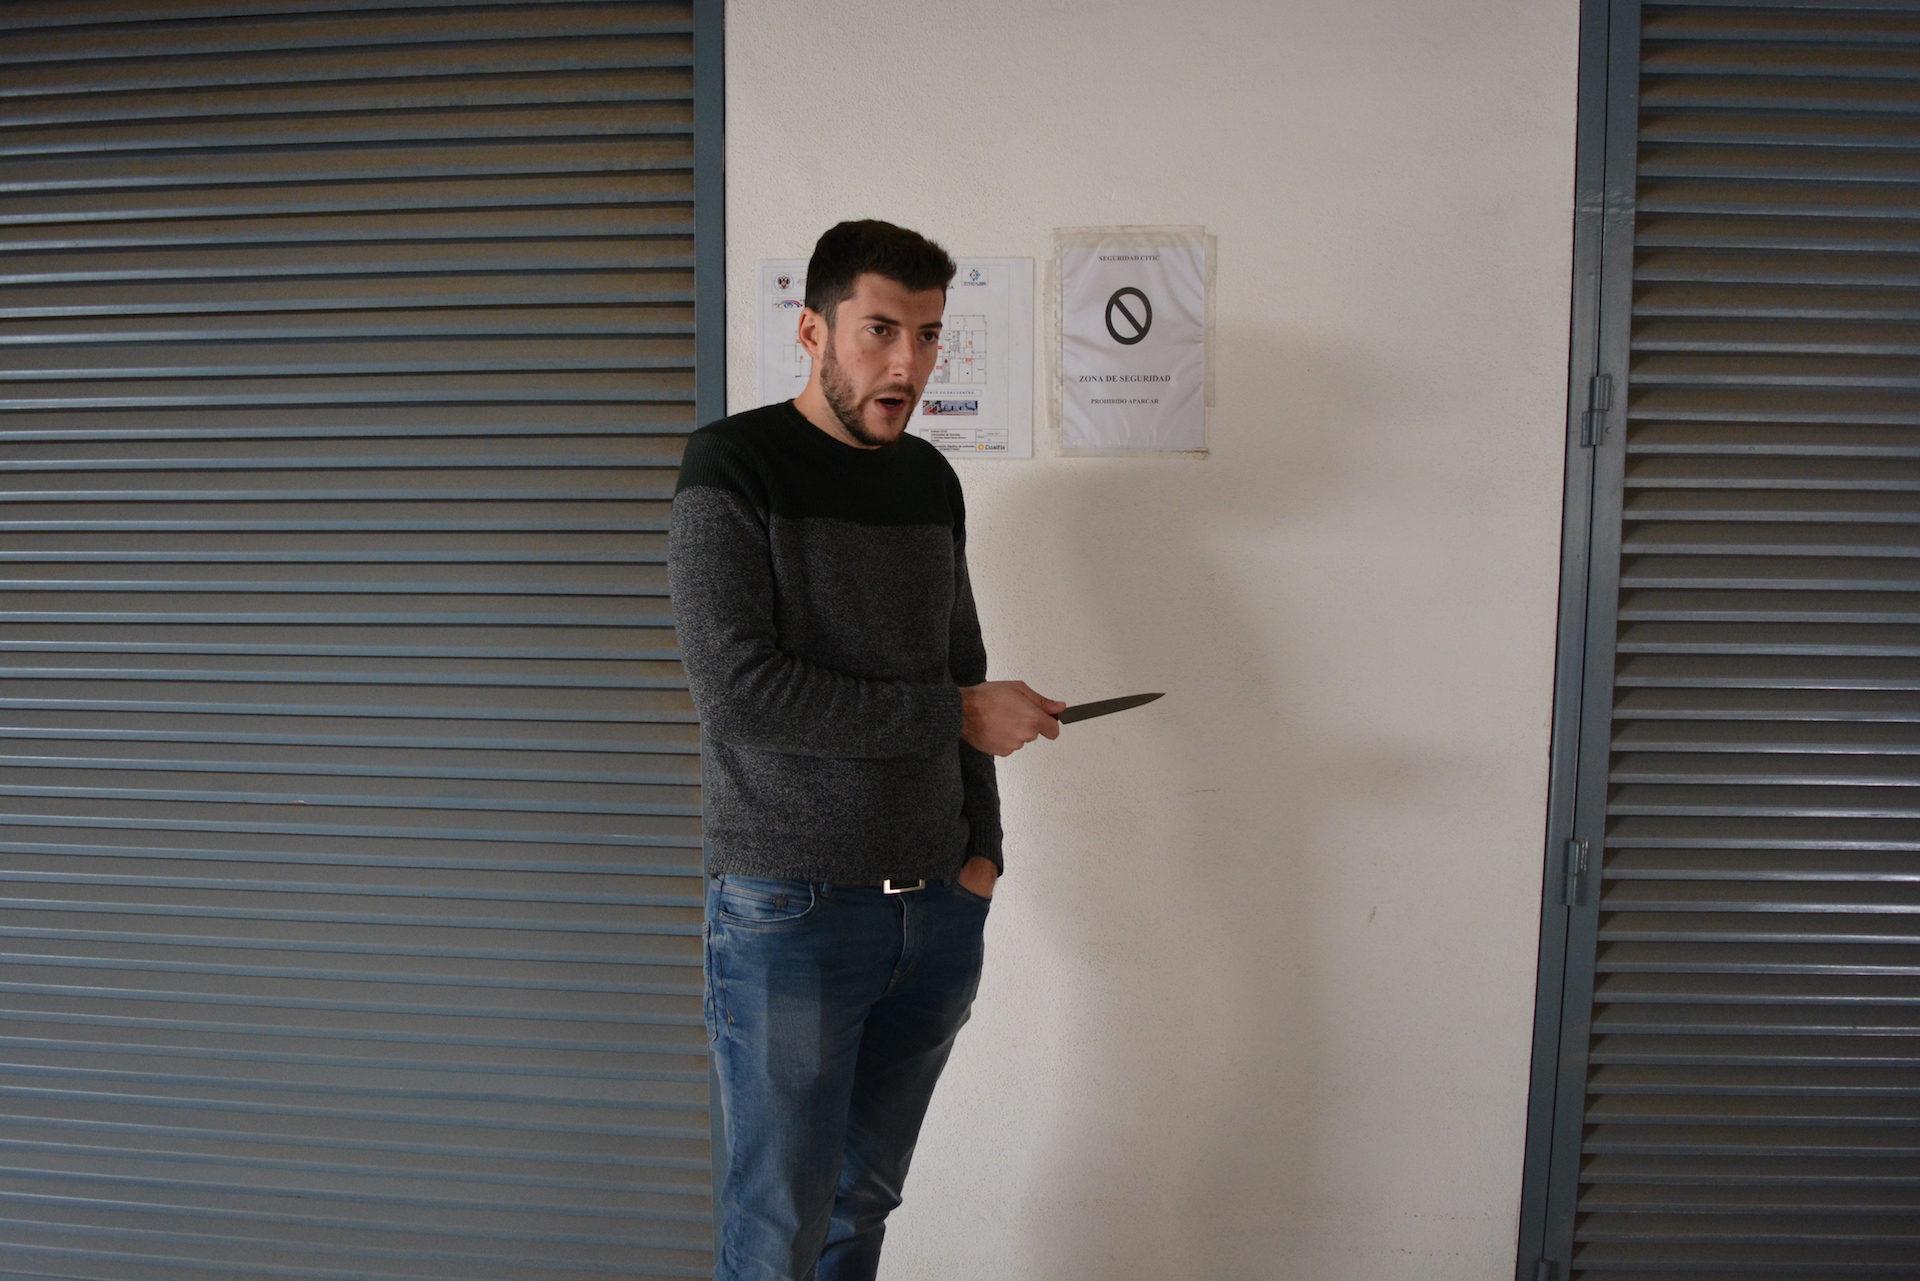knife: (1022, 672, 1181, 748)
